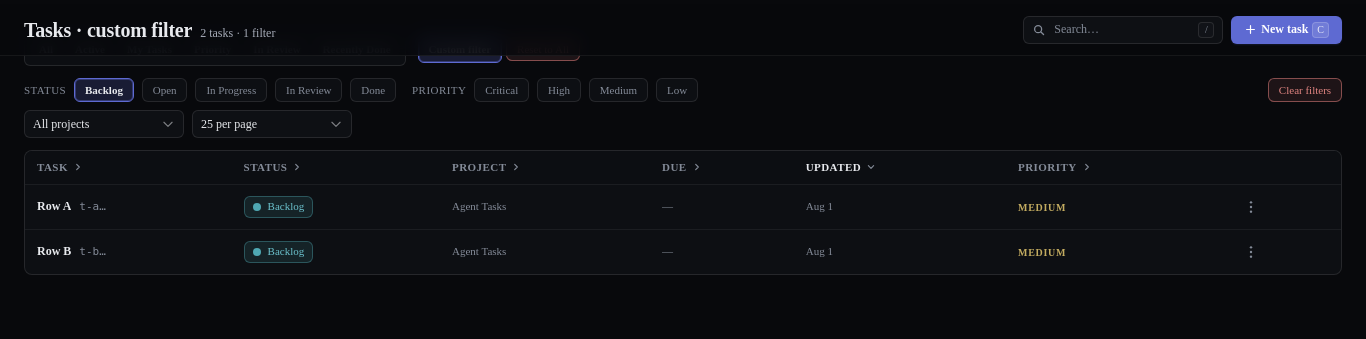
Scenario: /tasks row action dropping its row: focus recovery › a failed Promote leaves no pending recovery behind
The image size is (1366, 339).
Click the button named "Actions for Row A" at [1251, 207], box [1237,193,1265,221]
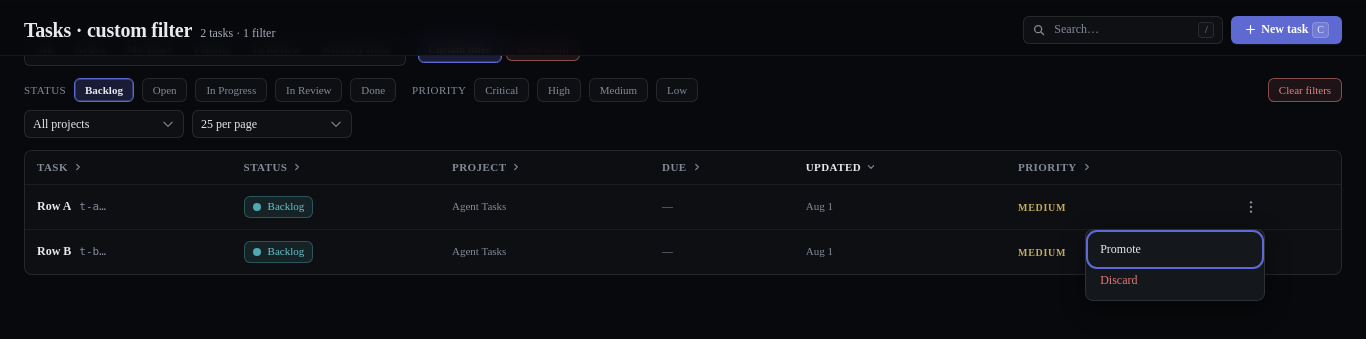
Click the menu item "Promote" at [1175, 249], box [1090,234,1260,265]
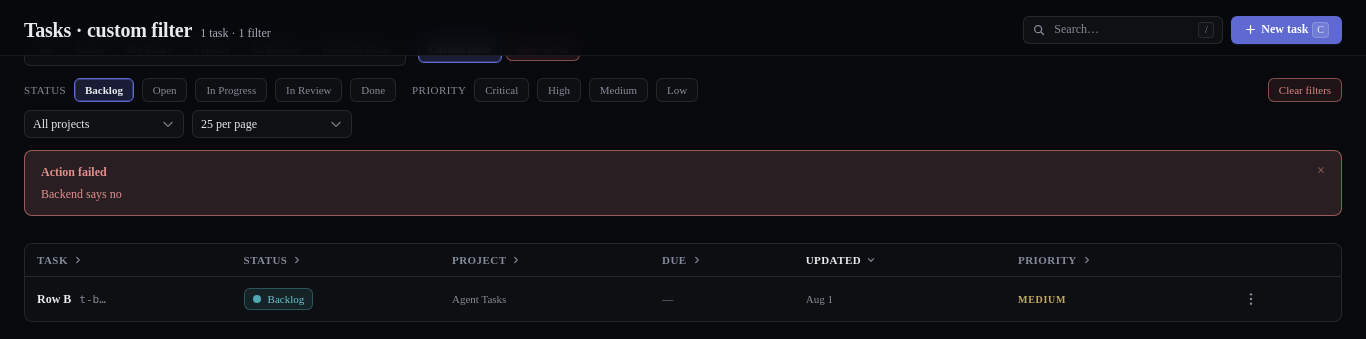
Expected: the text "Action failed" is shown, [41,165,107,179]
